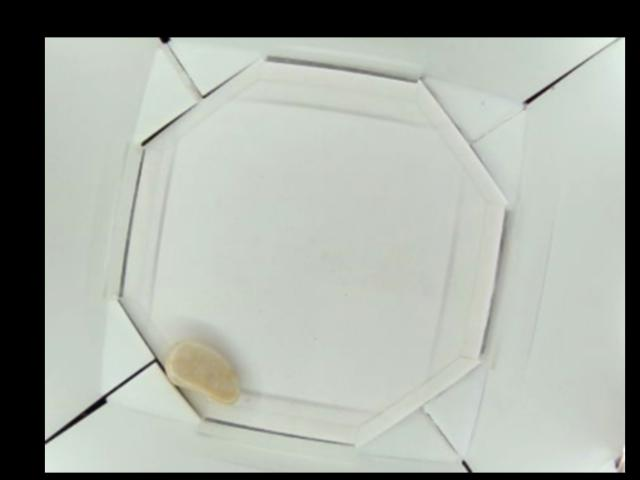Pebble: (164, 335, 242, 407)
